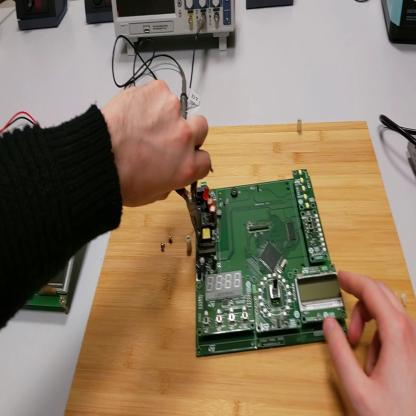hand: (108, 78, 213, 209), (326, 265, 416, 416)
low voltage board: (194, 168, 347, 357)
oscilloscope: (111, 1, 237, 58)
oscilloscope probe tip: (181, 68, 189, 118)
pliers: (175, 186, 202, 238), (408, 131, 416, 177)
socket: (16, 2, 71, 33), (85, 2, 113, 28)
welder station: (385, 1, 416, 48)
working area: (66, 121, 416, 413)
